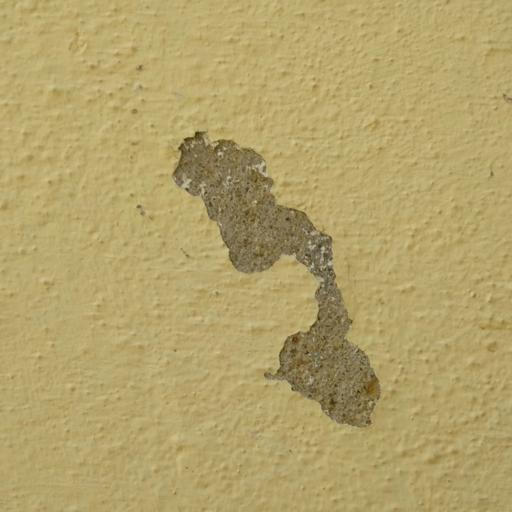peeling: (170, 123, 386, 437)
